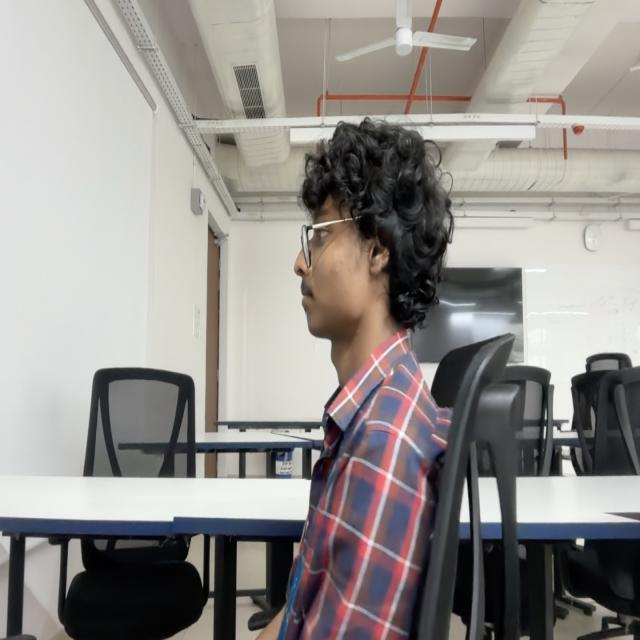darshan: (293, 129, 457, 339)
